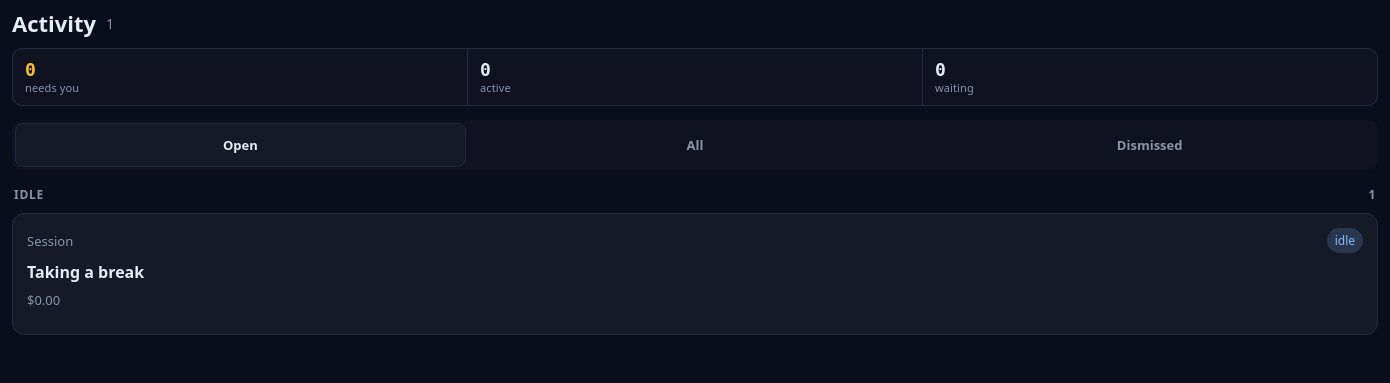
ActivityScreen › keeps the summary controls available when a selected filter has no matches
Click the button with aria-label "waiting: 0. filter activity".
click(954, 88)  # box [923,49,1377,105]
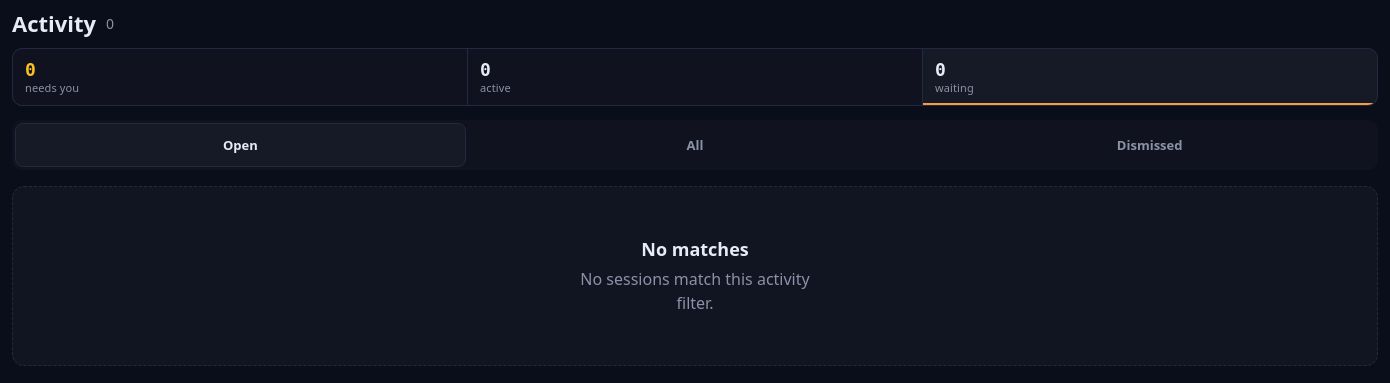
Expected: the text "No sessions match this activity filter." is shown, [567,268,823,315]
Click the button named "waiting: 0. filter activity".
click(954, 88)  # box [923,49,1377,105]
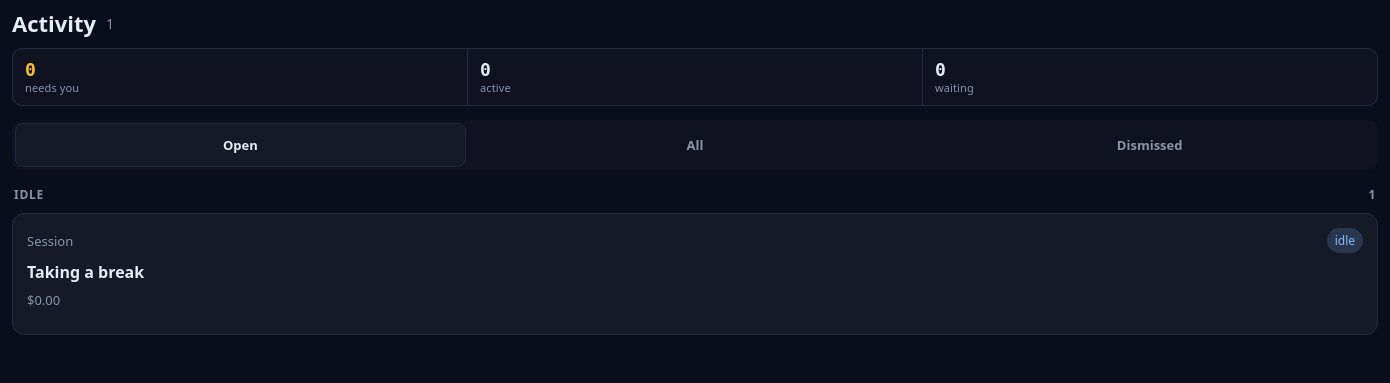
Expected: the text "Taking a break" is shown, [27,261,144,283]
